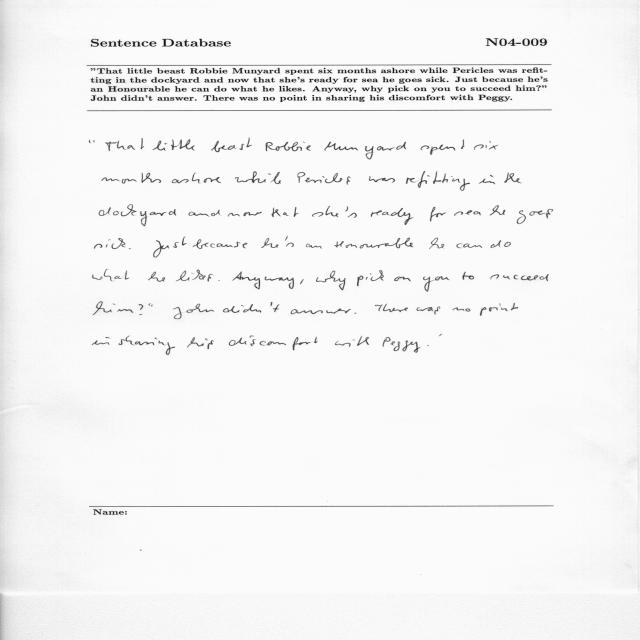word: (99, 205, 176, 226), (324, 142, 406, 159), (229, 336, 318, 351), (406, 171, 470, 191), (119, 335, 175, 355), (233, 272, 294, 290), (335, 238, 414, 249), (371, 208, 414, 225), (153, 237, 187, 258), (421, 139, 465, 155), (297, 172, 351, 185), (102, 173, 161, 184), (223, 302, 279, 313), (173, 304, 214, 319), (383, 337, 421, 353), (235, 171, 281, 184), (211, 138, 252, 152), (316, 271, 346, 290), (517, 209, 553, 224), (193, 239, 247, 249), (93, 302, 133, 315), (105, 138, 144, 151), (153, 139, 195, 151), (480, 303, 518, 316), (172, 173, 221, 183), (176, 270, 213, 282), (93, 270, 129, 282), (357, 270, 384, 286), (423, 276, 449, 292), (265, 142, 311, 151), (490, 274, 549, 281), (335, 336, 369, 347), (291, 309, 351, 315), (95, 238, 126, 249), (187, 337, 214, 349), (312, 206, 338, 217), (272, 207, 299, 217), (375, 304, 408, 312), (189, 210, 221, 217), (430, 207, 446, 221), (474, 141, 498, 150), (417, 306, 441, 315), (369, 176, 395, 183), (504, 173, 522, 183), (261, 238, 279, 248), (148, 272, 165, 282), (490, 240, 511, 248), (428, 334, 442, 346), (490, 205, 505, 216), (429, 238, 444, 249), (454, 210, 481, 216), (479, 175, 495, 184), (345, 206, 357, 218), (139, 303, 151, 315), (93, 337, 111, 345), (228, 212, 262, 216), (457, 244, 483, 249), (285, 236, 294, 247), (463, 272, 475, 280), (306, 244, 322, 249), (453, 308, 471, 312), (394, 277, 411, 281), (300, 280, 304, 285), (90, 140, 95, 143), (151, 305, 153, 307), (129, 248, 131, 249), (218, 280, 220, 281), (354, 313, 356, 314)
